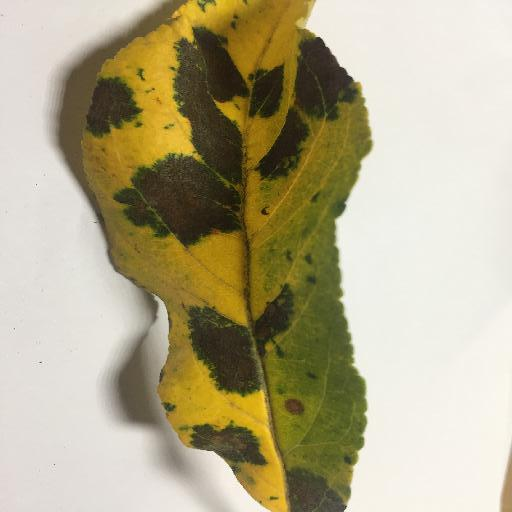Brown_Spot: (174, 38, 250, 160), (139, 162, 241, 239), (197, 317, 263, 396), (198, 416, 268, 460), (283, 397, 304, 416)
